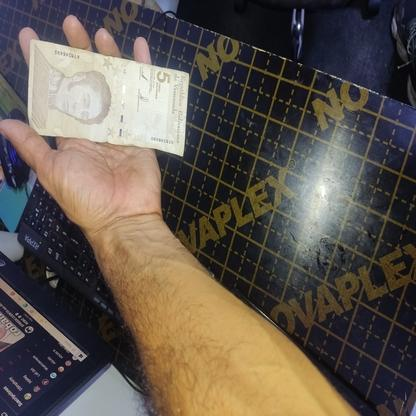vef_front: (27, 38, 189, 156)
